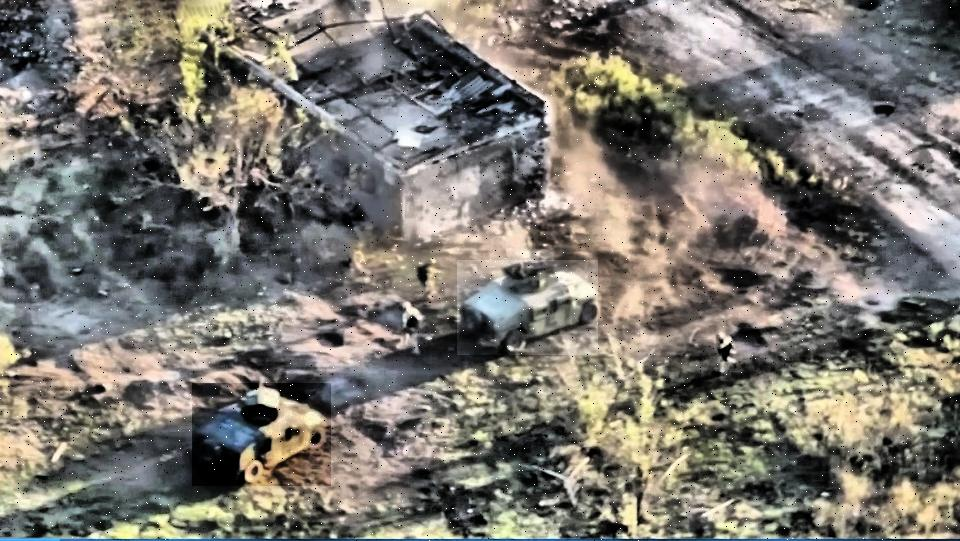military-vehicle: (193, 384, 332, 487), (457, 260, 598, 355)
